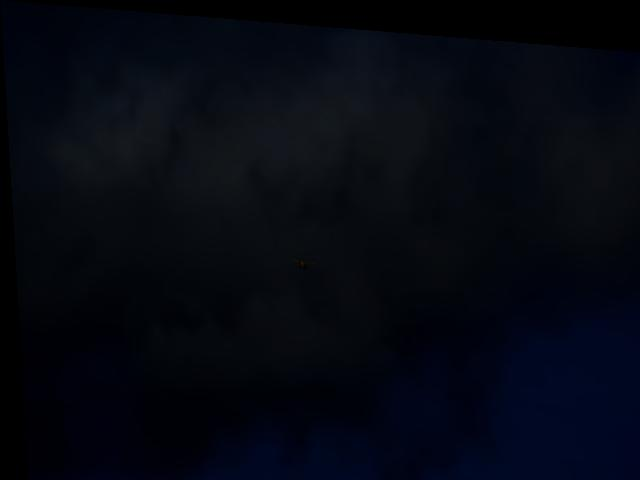plane: (287, 254, 314, 265)
